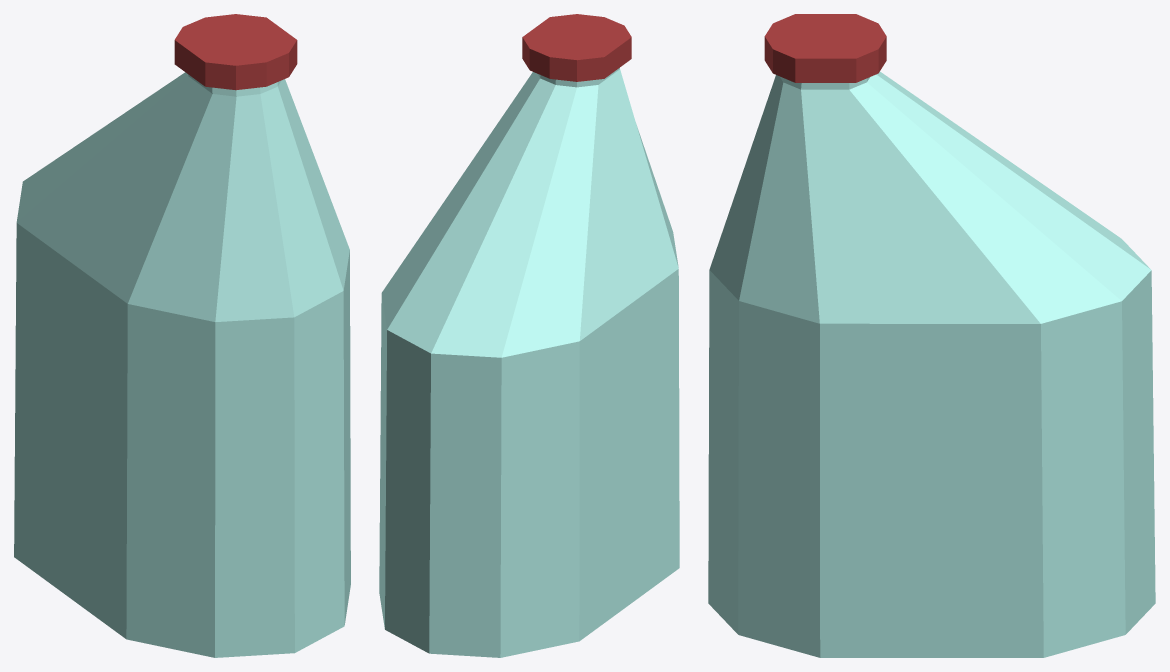
File: plastic_3.glb
3 views of the same model, side by side, from view 1: azimuth 30°, elevation 25°; view 2: azimuth 150°, elevation 25°; view 3: azimuth 270°, elevation 25° (orthographic). The views are drawn at different scales.
Visible parts, largest first — view 1: 3; view 2: 3; view 3: 3.
Boxes of the visible parts, x1,y1,x2,y2 form: 3: (14,14,350,657); 3: (379,14,679,657); 3: (708,14,1155,657).
Size of what is drawn, in the model's own units: 0.3294 by 0.8165 by 0.5713.
